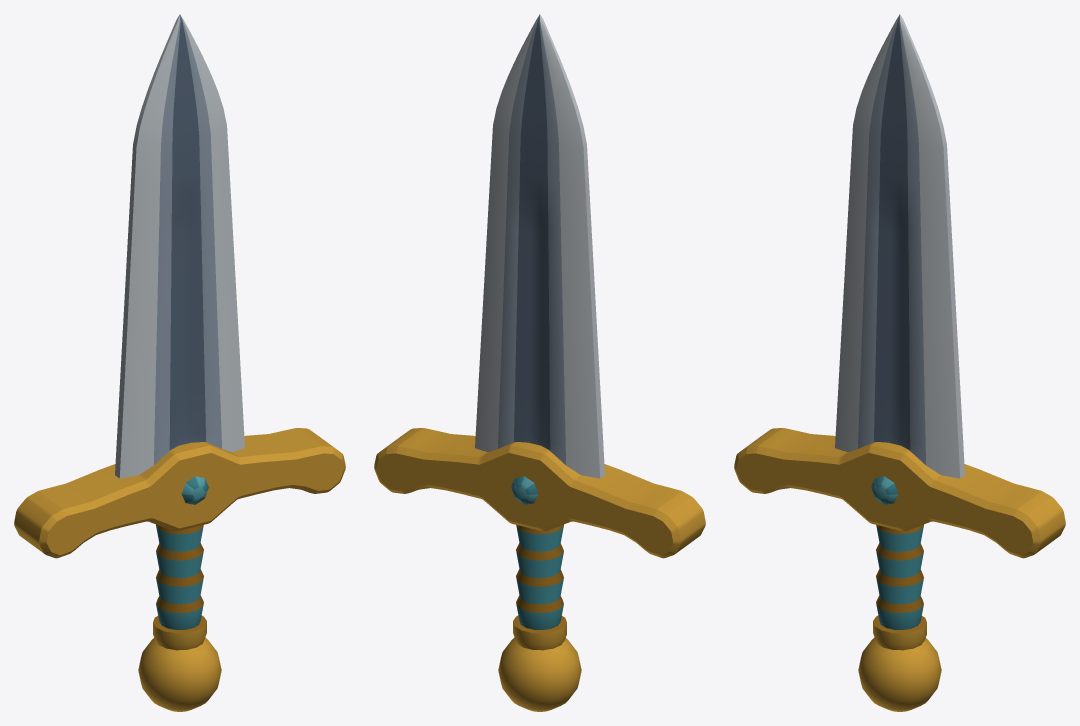
File: Broadsword_23.glb
3 renders of one model, left to right at view 1: azimuth 30°, elevation 25°; view 2: azimuth 150°, elevation 25°; view 3: azimuth 330°, elevation 25°, orthographic.
Parts seen in each view (by area): view 1: Broadsword_23; view 2: Broadsword_23; view 3: Broadsword_23.
Boxes of the visible parts, x1,y1,x2,y2 form: Broadsword_23: [14, 14, 345, 711]; Broadsword_23: [374, 14, 705, 711]; Broadsword_23: [734, 14, 1065, 711].
Bounding box in the file's own units: 2.84 × 6.13 × 0.668.
